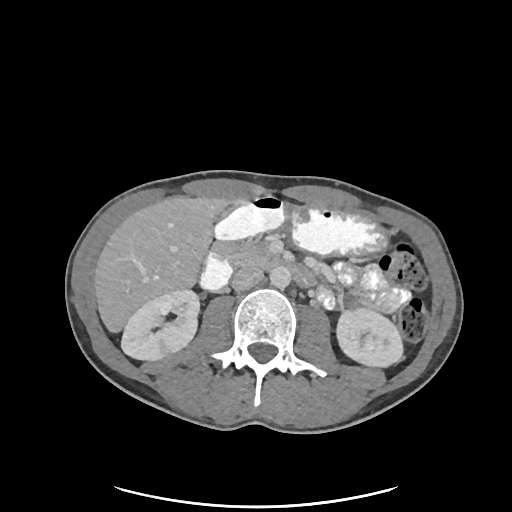Lesion: (156, 337, 174, 361)
